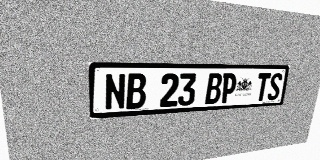2: (160, 73, 179, 107)
3: (178, 73, 196, 106)
B: (126, 73, 146, 109), (205, 73, 223, 104)
N: (104, 73, 126, 111)
P: (220, 73, 237, 103)
S: (267, 73, 283, 100)
T: (254, 73, 271, 101)
